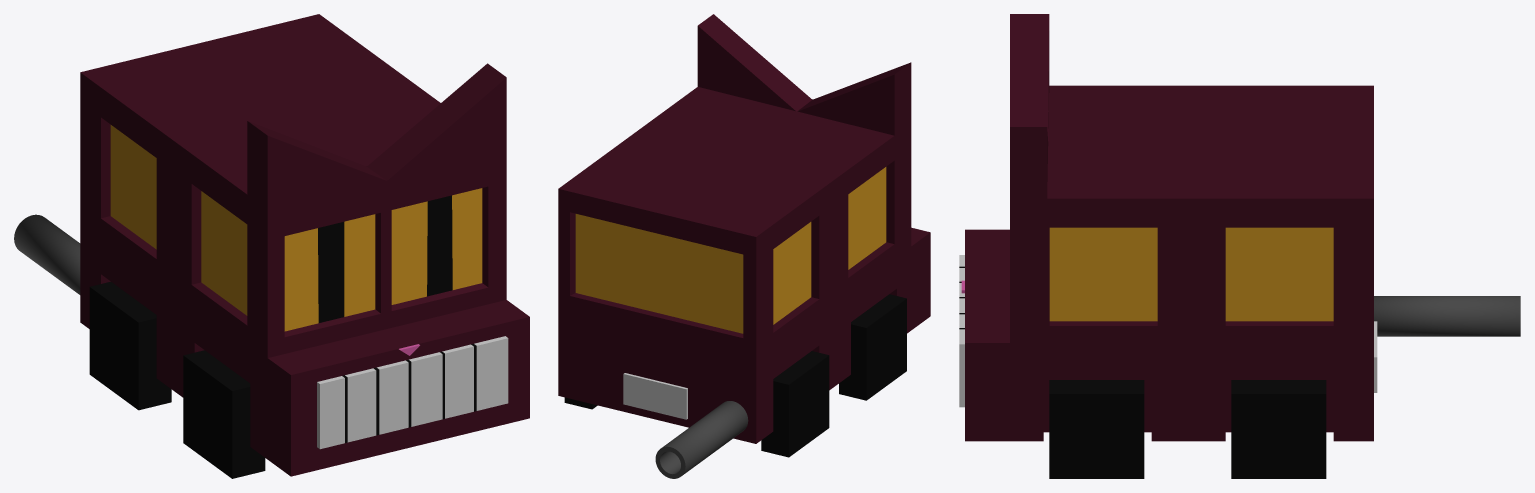
Rendered from PinkCar.FBX.
3 views of the same model, side by side, from view 1: azimuth 30°, elevation 25°; view 2: azimuth 150°, elevation 25°; view 3: azimuth 270°, elevation 25° (orthographic). The views are drawn at different scales.
Visible parts, largest first — view 1: Cube, Cube.004, Cube.003, Circle; view 2: Cube, Cube.004, Cube.003, Circle; view 3: Cube, Cube.001, Cube.002, Circle.
Part boxes in pixels (left/top/right/bottom): Cube: left=80, top=14, right=529, bottom=476; Cube.004: left=89, top=281, right=171, bottom=410; Cube.003: left=183, top=350, right=265, bottom=478; Circle: left=14, top=214, right=80, bottom=294; Cube: left=558, top=14, right=930, bottom=443; Cube.004: left=761, top=351, right=829, bottom=457; Cube.003: left=839, top=294, right=906, bottom=400; Circle: left=655, top=401, right=748, bottom=478; Cube: left=959, top=14, right=1377, bottom=441; Cube.001: left=1231, top=380, right=1326, bottom=478; Cube.002: left=1049, top=380, right=1144, bottom=478; Circle: left=1374, top=296, right=1520, bottom=336.
Size of the model in its own units: 115 by 144 by 214.
